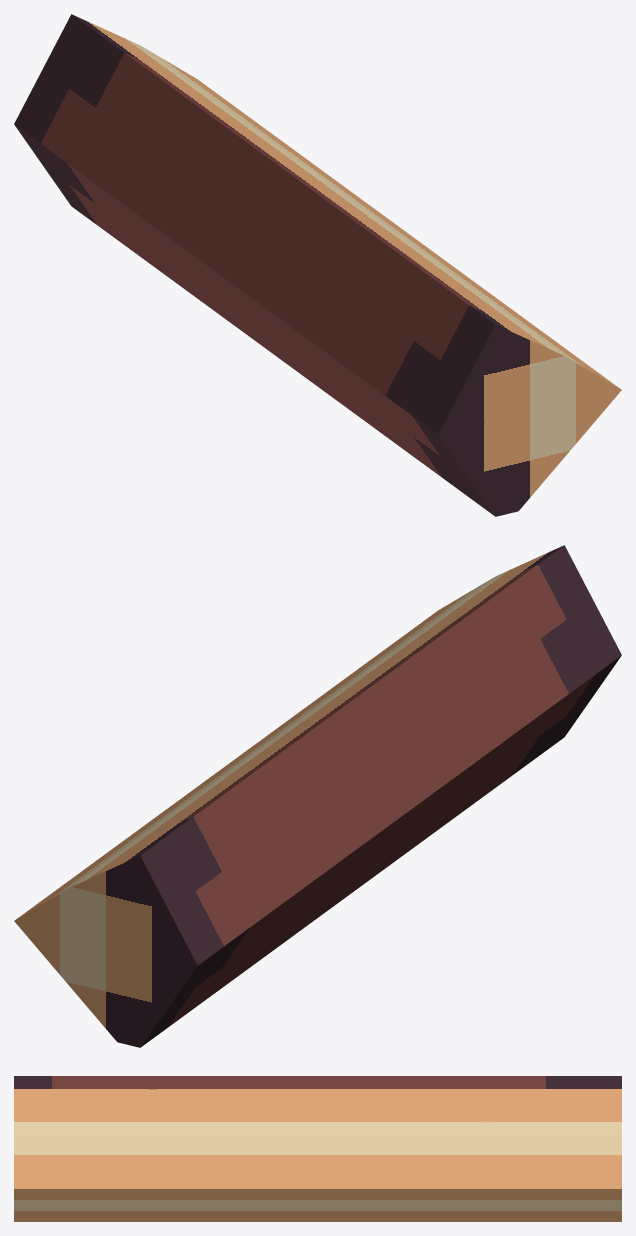
Rendered from WoodLog.gltf.
3 views of the same model, one above another, from view 1: azimuth 30°, elevation 25°; view 2: azimuth 150°, elevation 25°; view 3: azimuth 270°, elevation 25° (orthographic). The views are drawn at different scales.
Visible parts, largest first — view 1: cylinder; view 2: cylinder; view 3: cylinder.
Part boxes in pixels (x1,y1,x2,y2): cylinder: (14, 14, 621, 516); cylinder: (14, 545, 621, 1047); cylinder: (14, 1076, 621, 1221).
Bounding box in the file's own units: 0.25 × 0.25 × 1.
1 material, 1 textured.
